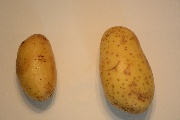potato: (97, 25, 155, 116), (16, 32, 57, 103)
